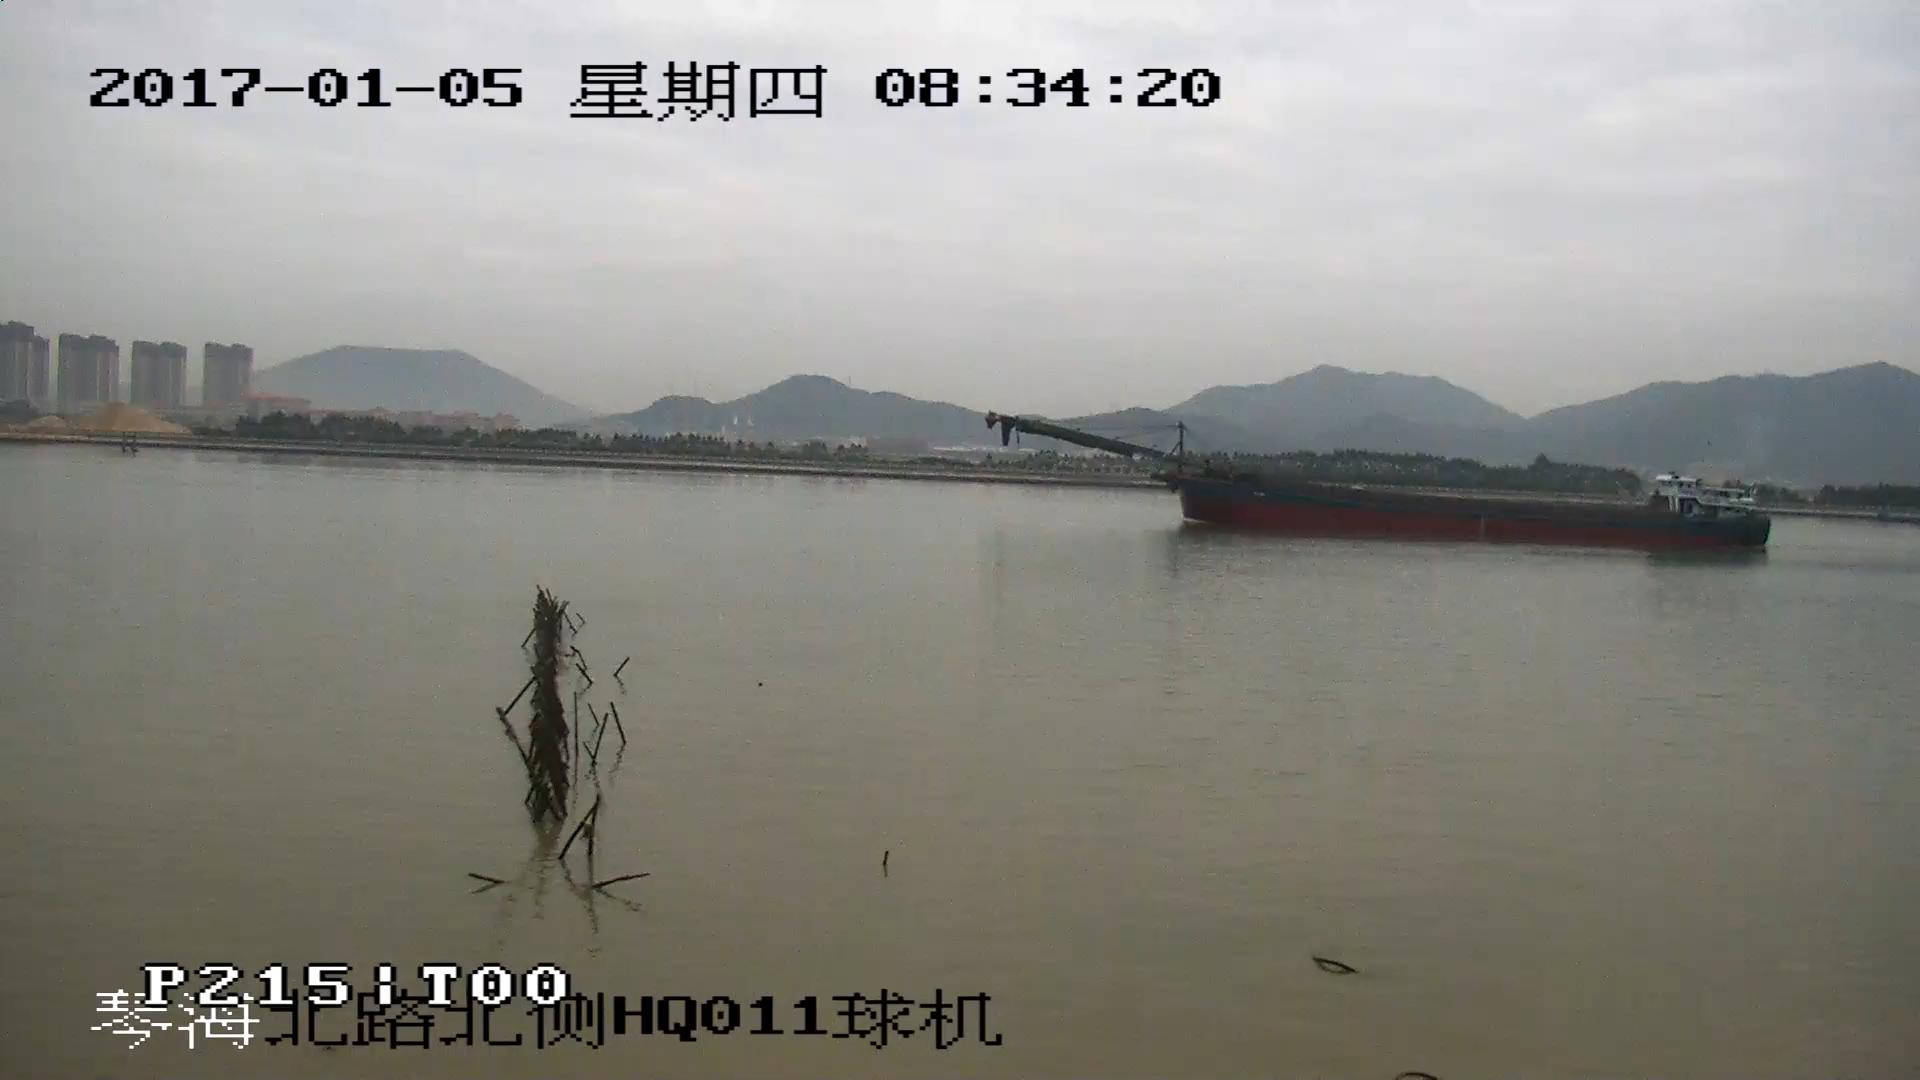bulk cargo carrier: (990, 416, 1772, 548)
